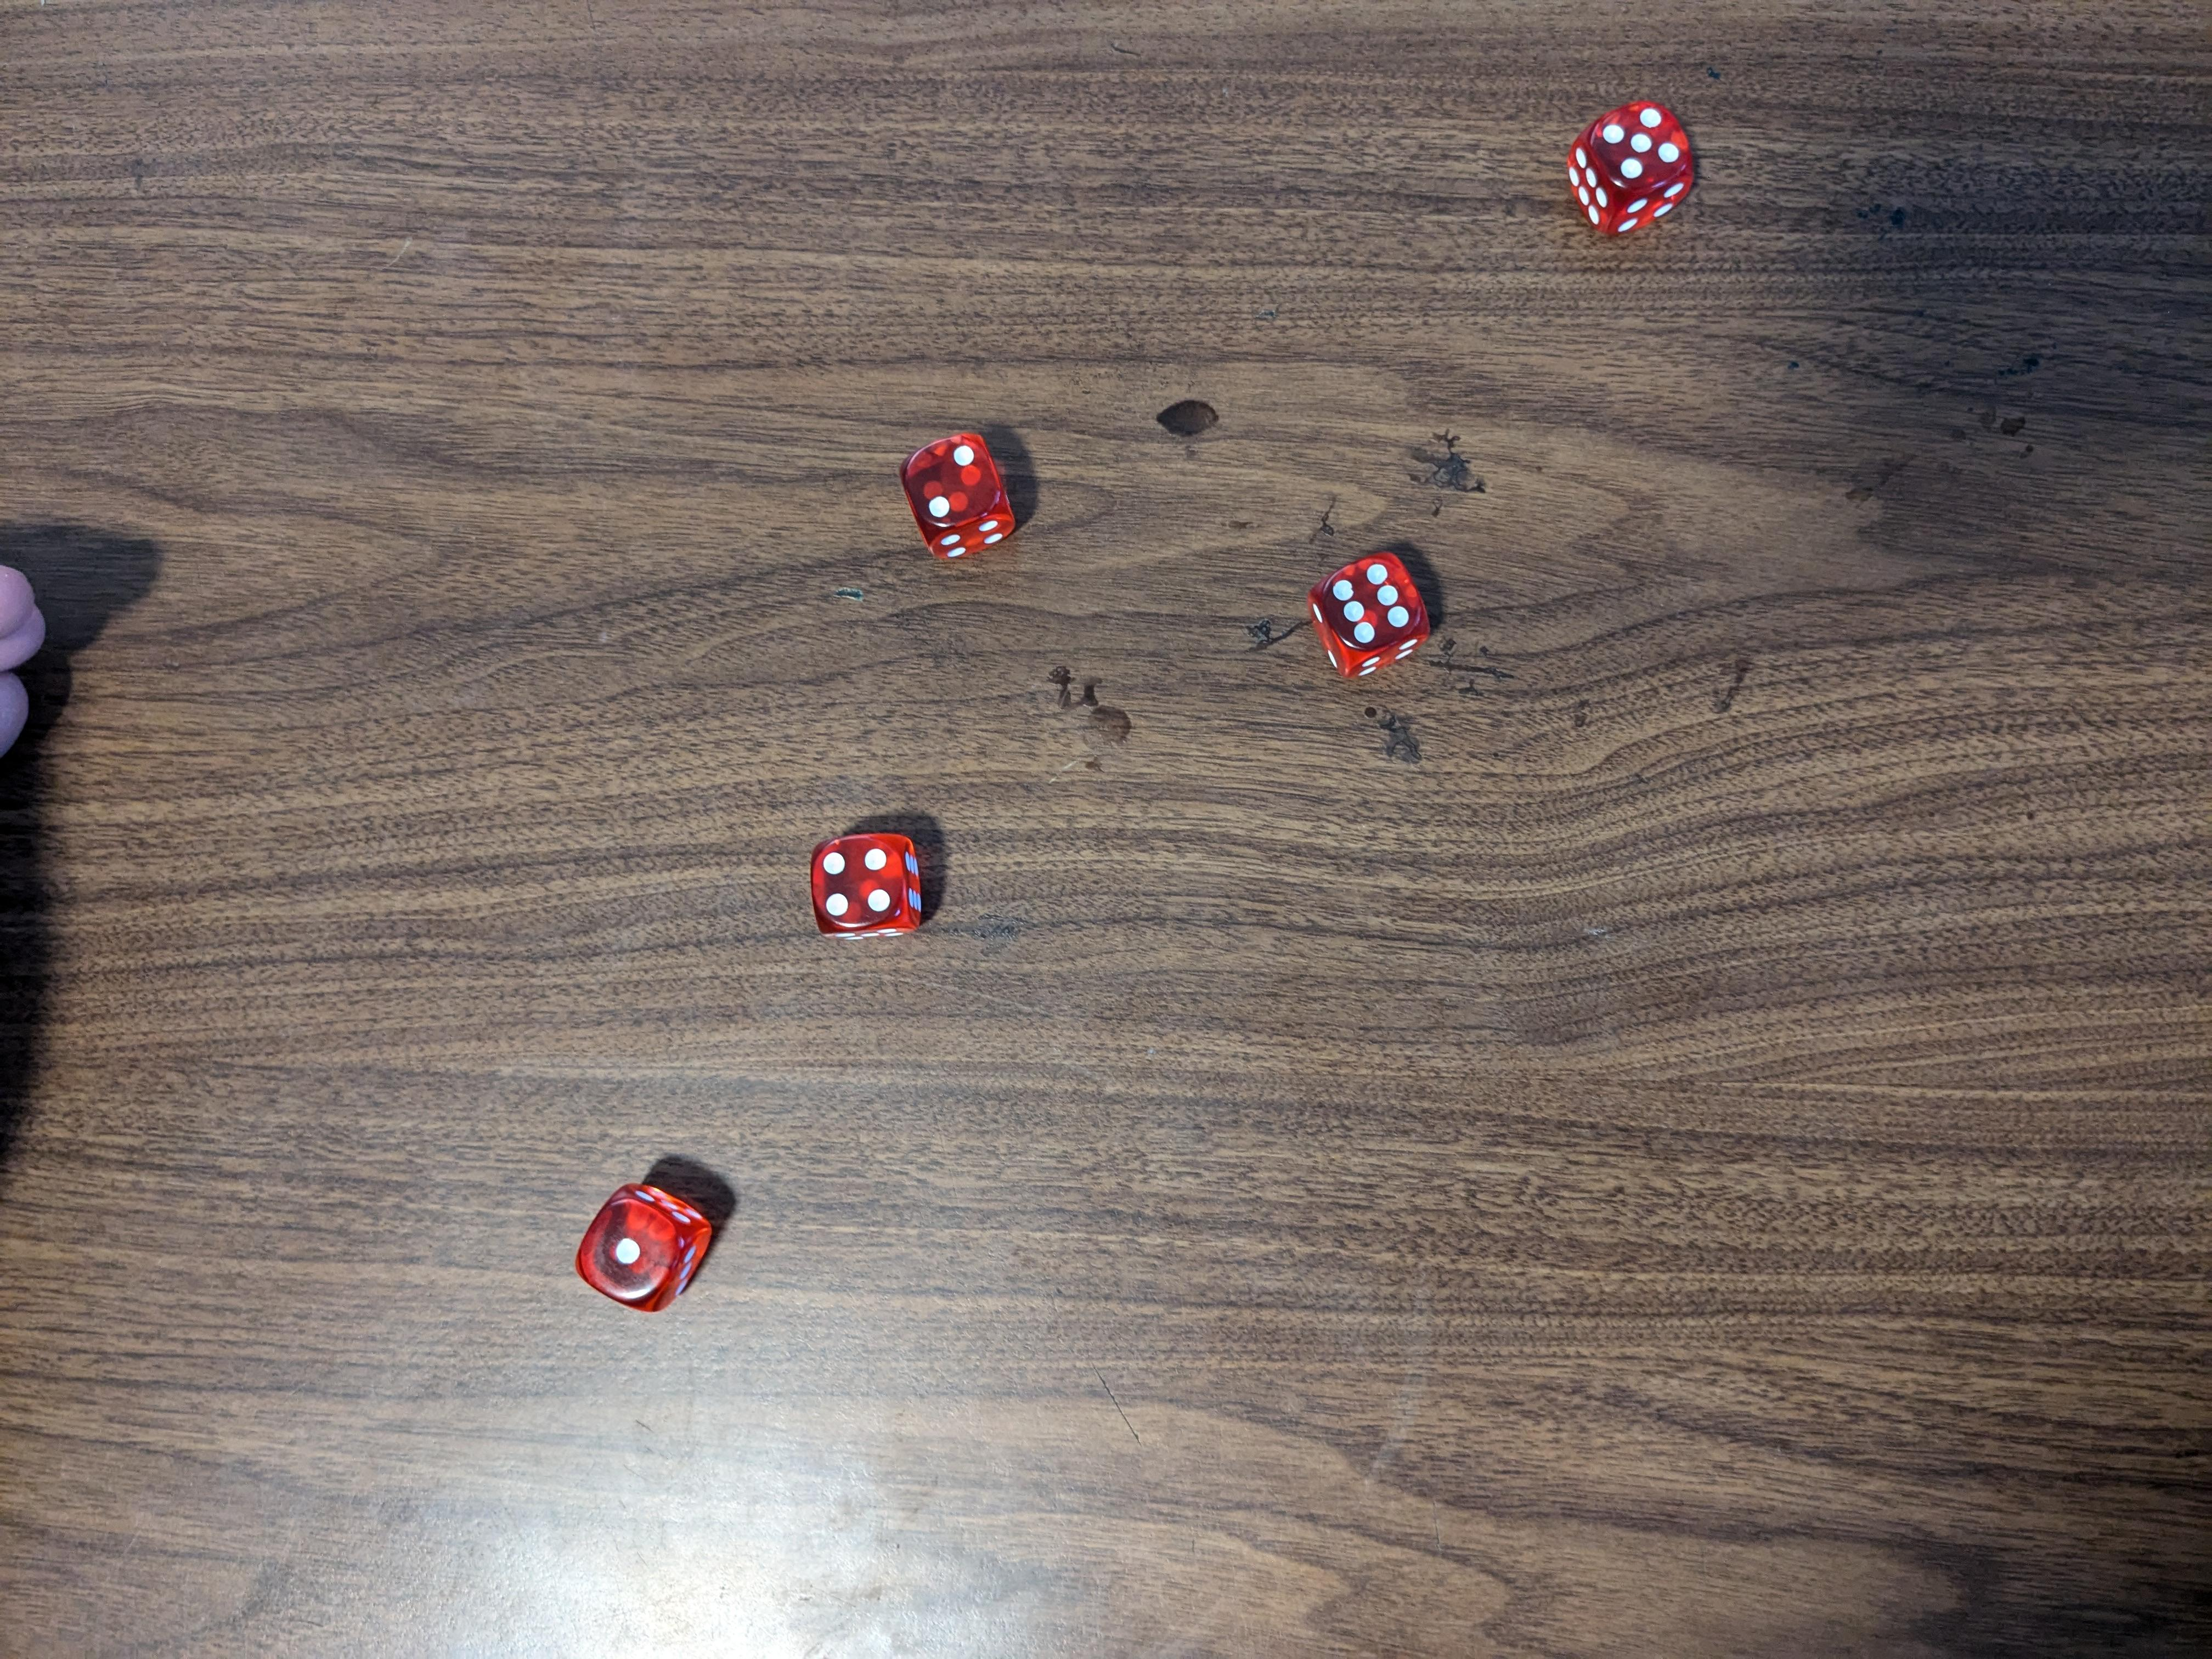five: (1564, 99, 1698, 246)
four: (805, 833, 932, 951)
one: (570, 1188, 718, 1312)
six: (1313, 552, 1435, 678)
two: (897, 430, 1021, 566)
